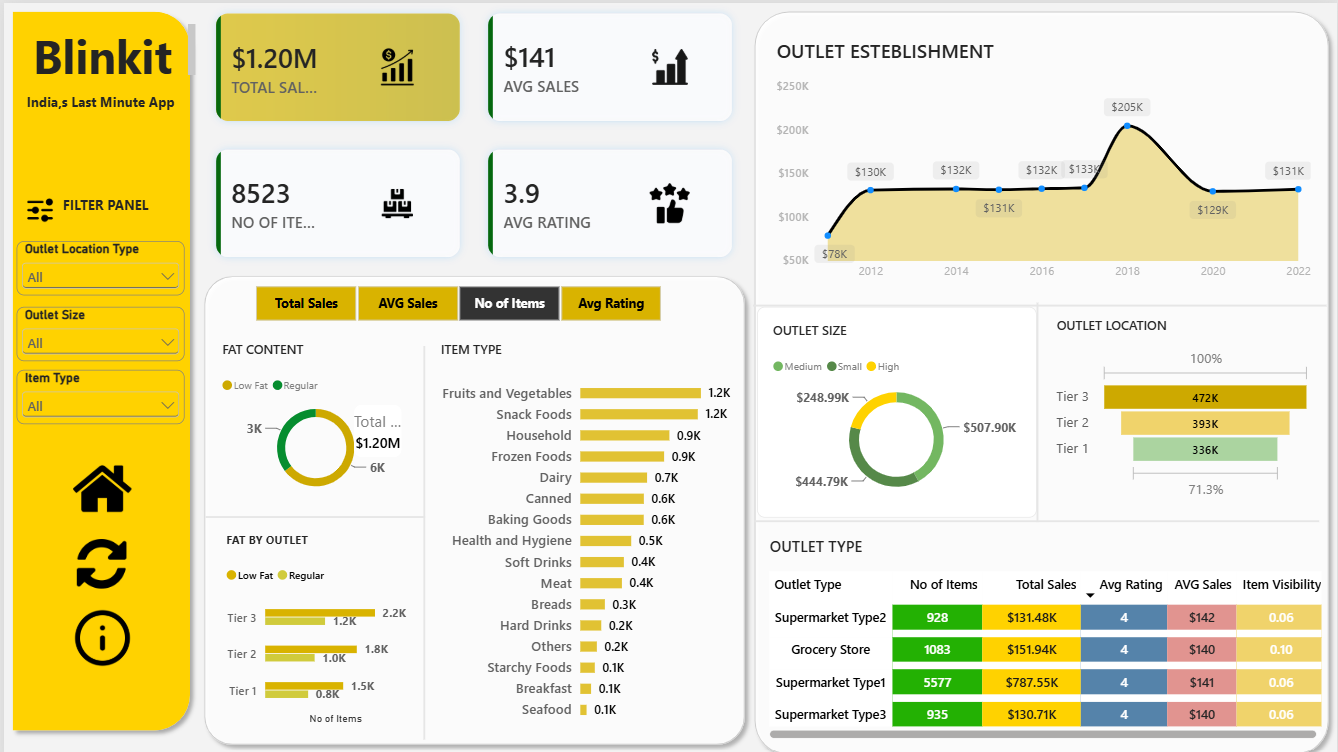

Layout of this report page (visuals, bound fields, positions):
{"tool":"powerbi","page":{"name":"Page 1","canvas":[1400,800],"ordinal":0},"visuals":[{"type":"shape","box":[0,0,204.4,773.1],"z":0},{"type":"textbox","box":[13.8,21.5,187.5,58.4],"z":1000},{"type":"textbox","box":[13.8,93.8,176.8,26.1],"z":2000},{"type":"cardVisual","fields":{"Data":["BlinkIT Grocery Data.Total Sales","BlinkIT Grocery Data.AVG Sales","BlinkIT Grocery Data.No of Items","BlinkIT Grocery Data.Avg Rating"]},"box":[212.1,0,565.6,278.2],"z":3000},{"type":"shape","box":[201.3,278.2,585.6,510.3],"z":4000},{"type":"donutChart","title":"FAT CONTENT","fields":{"Category":["BlinkIT Grocery Data.Item Fat Content"],"Y":["BlinkIT Grocery Data.No of Items"]},"box":[213.6,339.7,229,196.7],"z":5000},{"type":"slicer","fields":{"Values":["Metrics.Metrics"]},"box":[244.4,295.1,465,40],"z":6000},{"type":"cardVisual","fields":{"Data":["BlinkIT Grocery Data.Total Sales"]},"box":[367.3,422.7,50.7,55.3],"z":7000},{"type":"clusteredBarChart","title":"FAT BY OUTLET","fields":{"Category":["BlinkIT Grocery Data.Outlet Location Type"],"Series":["BlinkIT Grocery Data.Item Fat Content"],"Y":["BlinkIT Grocery Data.No of Items"]},"box":[218.3,541,221.3,232.1],"z":8000},{"type":"shape","box":[212.1,518,230.6,44.6],"z":9000},{"type":"shape","box":[418.1,359.7,47.6,413.5],"z":10000},{"type":"barChart","title":"ITEM TYPE","fields":{"Category":["BlinkIT Grocery Data.Item Type"],"Y":["BlinkIT Grocery Data.No of Items"]},"box":[442.7,339.7,336.6,433.4],"z":11000},{"type":"shape","box":[779.3,0,621,799.2],"z":12000},{"type":"lineChart","title":"OUTLET ESTEBLISHMENT","fields":{"Category":["BlinkIT Grocery Data.Outlet Establishment Year"],"Y":["BlinkIT Grocery Data.Total Sales"]},"box":[796.2,21.5,593.3,289],"z":13000},{"type":"shape","box":[786.9,295.1,602.5,44.6],"z":14000},{"type":"donutChart","title":"OUTLET SIZE","fields":{"Category":["BlinkIT Grocery Data.Outlet Size"],"Y":["BlinkIT Grocery Data.Total Sales"]},"box":[791.6,319.7,293.6,221.3],"z":15000},{"type":"funnel","title":"OUTLET LOCATION","fields":{"Category":["BlinkIT Grocery Data.Outlet Location Type"],"Y":["Sum(BlinkIT Grocery Data.Sales)"]},"box":[1089.7,315.1,299.7,221.3],"z":16000},{"type":"shape","box":[1062.1,315.1,47.6,230.6],"z":17000},{"type":"shape","box":[788.5,522.6,593.3,44.6],"z":18000},{"type":"pivotTable","title":"OUTLET TYPE","fields":{"Rows":["BlinkIT Grocery Data.Outlet Type"],"Values":["BlinkIT Grocery Data.No of Items","BlinkIT Grocery Data.Total Sales","BlinkIT Grocery Data.Avg Rating","BlinkIT Grocery Data.AVG Sales","Avg(BlinkIT Grocery Data.Item Visibility)"]},"box":[788.5,545.6,611.7,242.8],"z":19000},{"type":"slicer","fields":{"Values":["BlinkIT Grocery Data.Outlet Location Type"]},"box":[13.8,250.5,176.8,56.9],"z":20000},{"type":"slicer","fields":{"Values":["BlinkIT Grocery Data.Outlet Size"]},"box":[13.8,319.7,176.8,56.9],"z":21000},{"type":"slicer","fields":{"Values":["BlinkIT Grocery Data.Item Type"]},"box":[13.8,385.8,176.8,56.9],"z":22000},{"type":"textbox","box":[13.8,202.9,187.5,30.7],"z":22001},{"type":"image","box":[13.8,202.9,49.2,29.2],"z":22002},{"type":"image","box":[63,479.5,79.9,61.5],"z":22003},{"type":"image","box":[76.9,556.4,52.3,66.1],"z":22004},{"type":"image","box":[72.2,631.7,63,69.2],"z":22005}]}

Visuals, with their boxes in screenshot pixels (x1, y1, x2, y2), scaled from the page's 1400x800 canvas onto the 1338x752 screenshot:
shape: box=[0, 0, 195, 727]
textbox: box=[13, 20, 192, 75]
textbox: box=[13, 88, 182, 113]
cardVisual - BlinkIT Grocery Data.Total Sales x BlinkIT Grocery Data.AVG Sales: box=[203, 0, 743, 262]
shape: box=[192, 262, 752, 741]
"FAT CONTENT" donutChart: box=[204, 319, 423, 504]
slicer - Metrics.Metrics: box=[234, 277, 678, 315]
cardVisual - BlinkIT Grocery Data.Total Sales: box=[351, 397, 399, 449]
"FAT BY OUTLET" clusteredBarChart: box=[209, 509, 420, 727]
shape: box=[203, 487, 423, 529]
shape: box=[400, 338, 445, 727]
"ITEM TYPE" barChart: box=[423, 319, 745, 727]
shape: box=[745, 0, 1337, 751]
"OUTLET ESTEBLISHMENT" lineChart: box=[761, 20, 1328, 292]
shape: box=[752, 277, 1328, 319]
"OUTLET SIZE" donutChart: box=[757, 301, 1037, 509]
"OUTLET LOCATION" funnel: box=[1041, 296, 1328, 504]
shape: box=[1015, 296, 1061, 513]
shape: box=[754, 491, 1321, 533]
"OUTLET TYPE" pivotTable: box=[754, 513, 1337, 741]
slicer - BlinkIT Grocery Data.Outlet Location Type: box=[13, 235, 182, 289]
slicer - BlinkIT Grocery Data.Outlet Size: box=[13, 301, 182, 354]
slicer - BlinkIT Grocery Data.Item Type: box=[13, 363, 182, 416]
textbox: box=[13, 191, 192, 220]
image: box=[13, 191, 60, 218]
image: box=[60, 451, 137, 509]
image: box=[73, 523, 123, 585]
image: box=[69, 594, 129, 659]
